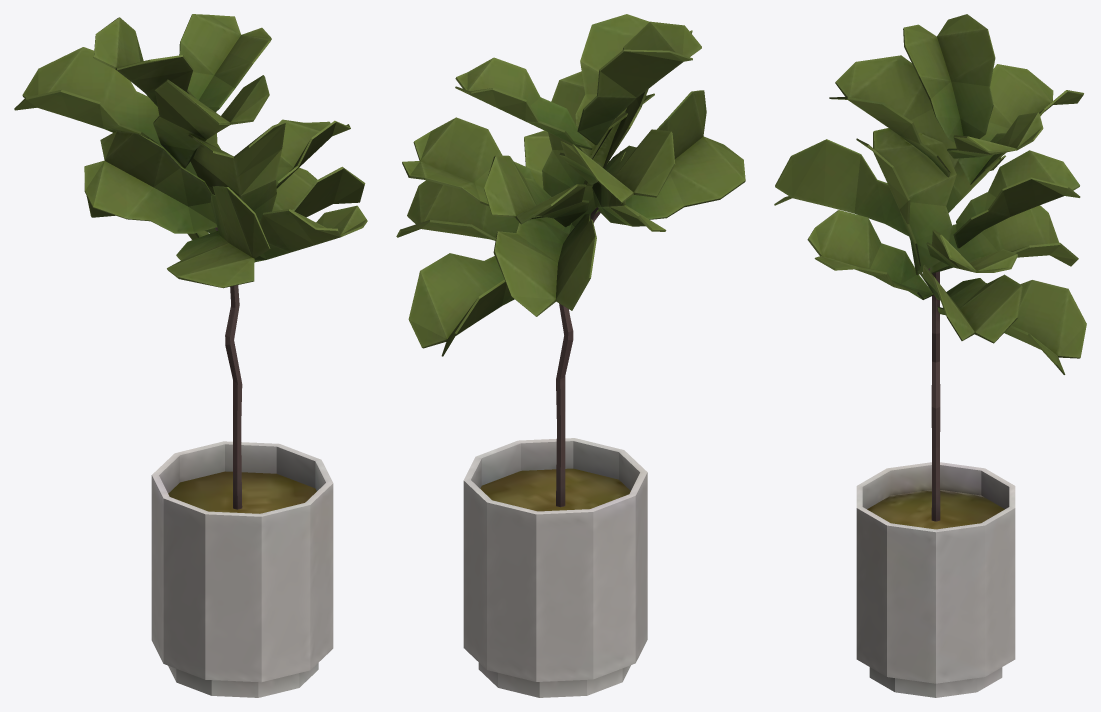
Rendered from fiddle_leaf_plant-9BKWM0yI.glb.
3 renders of one model, left to right at view 1: azimuth 30°, elevation 25°; view 2: azimuth 150°, elevation 25°; view 3: azimuth 270°, elevation 25°, orthographic. The views are drawn at different scales.
Visible parts, largest first — view 1: FiddleleafFigPottedPlant_mesh; view 2: FiddleleafFigPottedPlant_mesh; view 3: FiddleleafFigPottedPlant_mesh.
Part boxes in pixels (left/top/right/bottom): FiddleleafFigPottedPlant_mesh: left=14, top=14, right=367, bottom=697; FiddleleafFigPottedPlant_mesh: left=396, top=14, right=745, bottom=697; FiddleleafFigPottedPlant_mesh: left=774, top=14, right=1086, bottom=697.
Bounding box in the file's own units: 4.3 × 8.95 × 4.25.
Materials: 1 (1 with a texture image).
